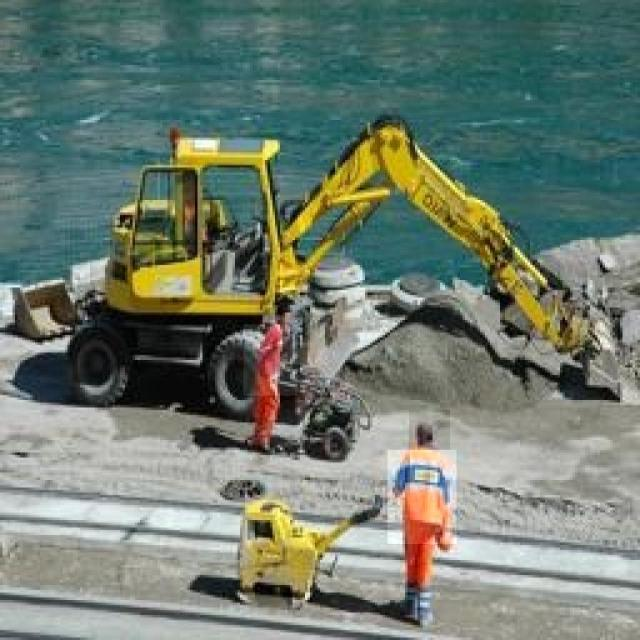Helmet: (388, 450, 457, 544), (244, 326, 298, 396), (248, 279, 298, 340), (409, 410, 450, 452)
